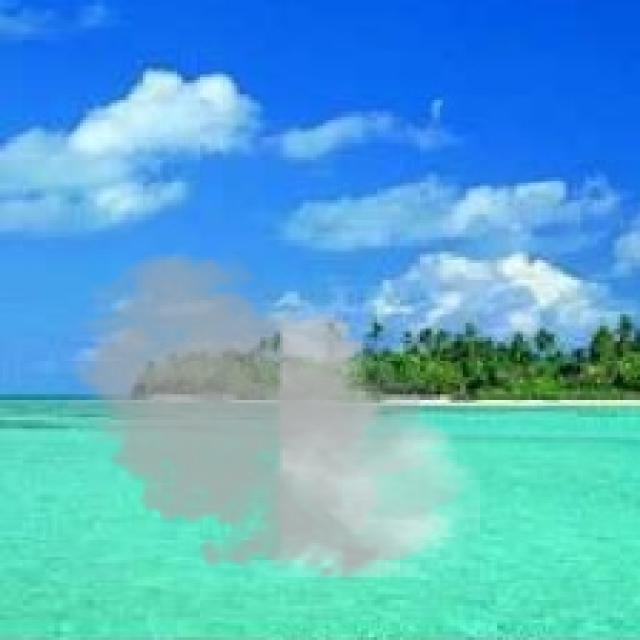Smoke: (57, 246, 480, 592)
